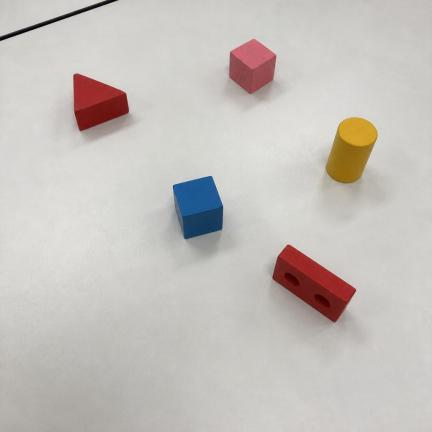BuildingBlocks: (273, 246, 355, 321), (327, 118, 377, 182), (173, 177, 223, 238), (74, 74, 128, 130), (230, 40, 276, 93)
